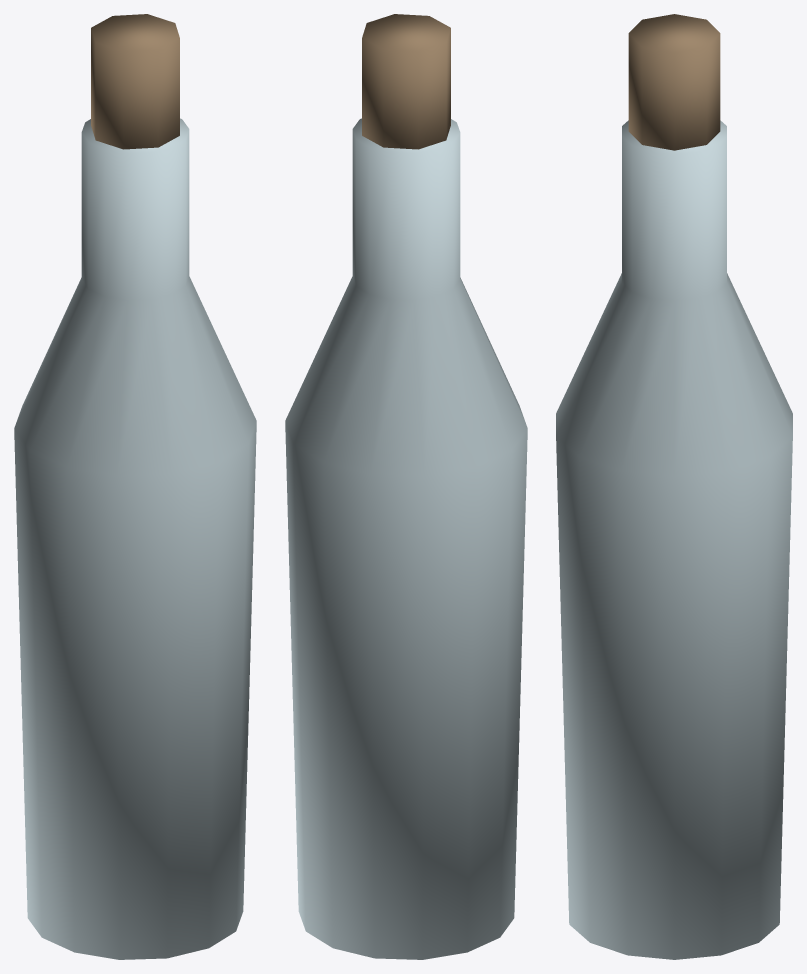
File: potion_tall_red.glb
3 renders of one model, left to right at view 1: azimuth 30°, elevation 25°; view 2: azimuth 150°, elevation 25°; view 3: azimuth 270°, elevation 25°, orthographic.
Parts seen in each view (by area): view 1: GD_potion_tall_red__m0, GD_potion_tall_red__m2; view 2: GD_potion_tall_red__m0, GD_potion_tall_red__m2; view 3: GD_potion_tall_red__m0, GD_potion_tall_red__m2.
Part boxes in pixels (<box>): GD_potion_tall_red__m0: <box>14,118,256,959</box>; GD_potion_tall_red__m2: <box>91,14,179,149</box>; GD_potion_tall_red__m0: <box>285,118,527,959</box>; GD_potion_tall_red__m2: <box>362,14,450,149</box>; GD_potion_tall_red__m0: <box>556,120,792,959</box>; GD_potion_tall_red__m2: <box>628,14,720,150</box>.
Bounding box in the file's own units: 0.09 × 0.36 × 0.0877.
